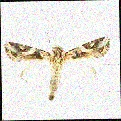Spodoptera litura: (4, 27, 112, 101)
